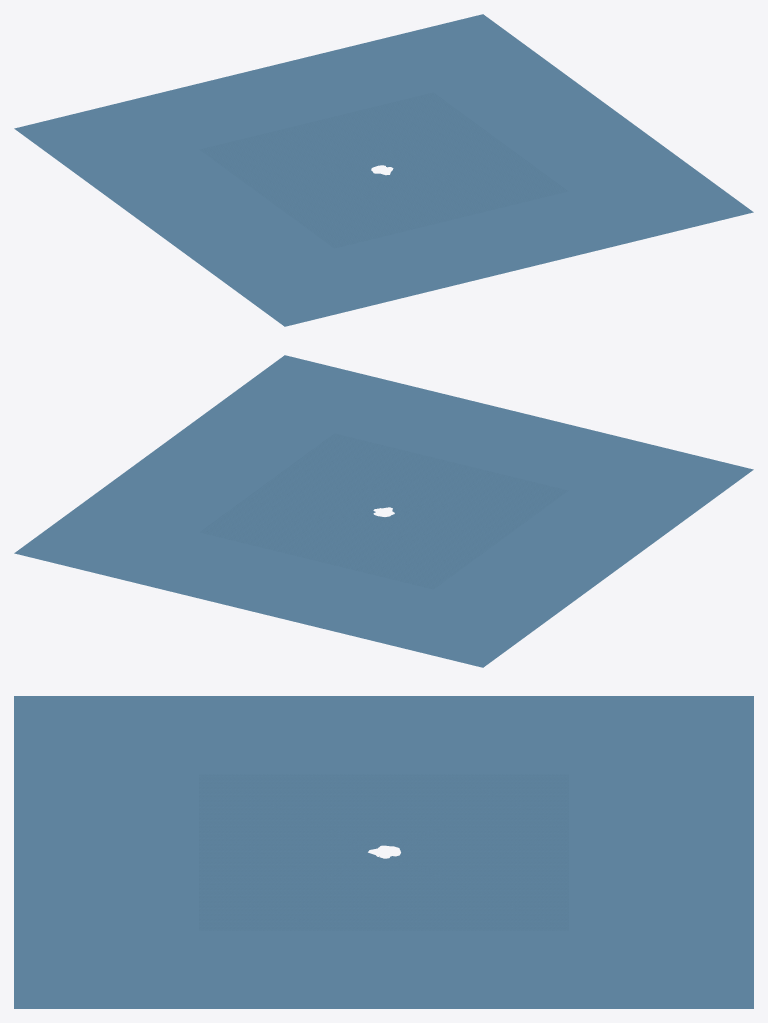
Rendered from uvmd-0360.glb.
3 renders of one model, top to bottom at view 1: azimuth 30°, elevation 25°; view 2: azimuth 150°, elevation 25°; view 3: azimuth 270°, elevation 25°, orthographic. The views are drawn at different scales.
Visible parts, largest first — view 1: uvmd-0360; view 2: uvmd-0360; view 3: uvmd-0360.
Part boxes in pixels (x1,y1,x2,y2): uvmd-0360: (14, 14, 753, 326); uvmd-0360: (14, 355, 753, 667); uvmd-0360: (14, 696, 753, 1008).
Bounding box in the file's own units: 24576 × 0 × 24576.
Materials: 2 (2 with a texture image).
